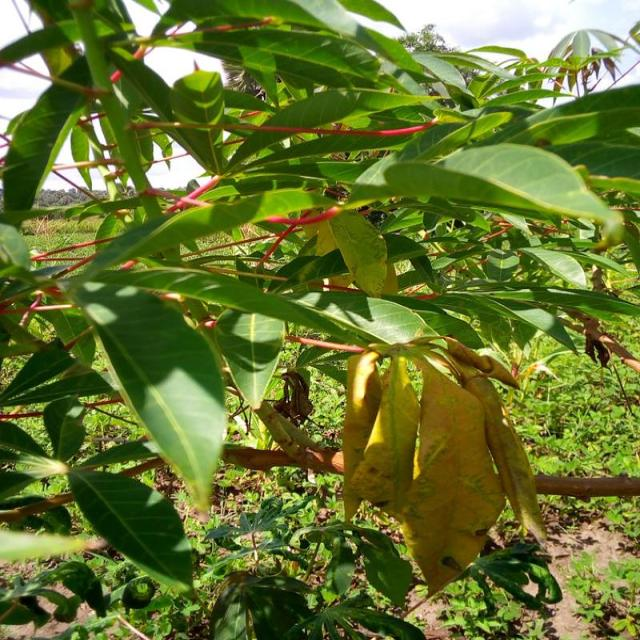cassava leaf: (341, 335, 548, 598), (66, 272, 227, 512), (346, 140, 622, 231), (66, 466, 195, 599)
